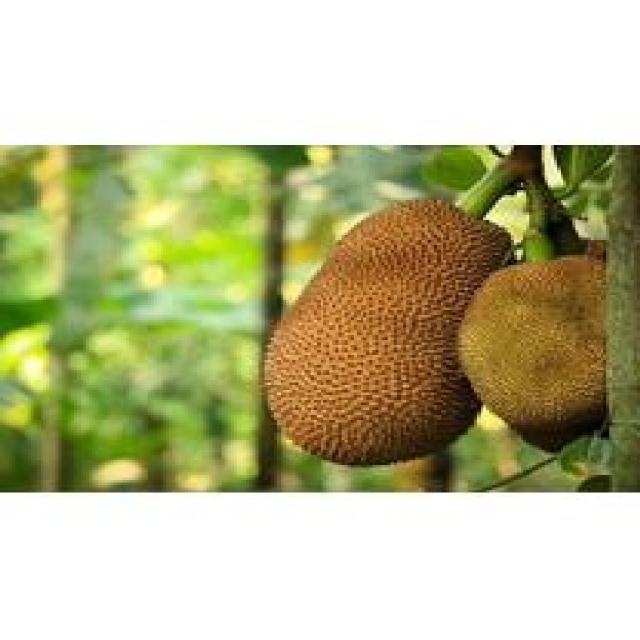Fruit: (246, 180, 542, 480), (443, 238, 637, 460)
